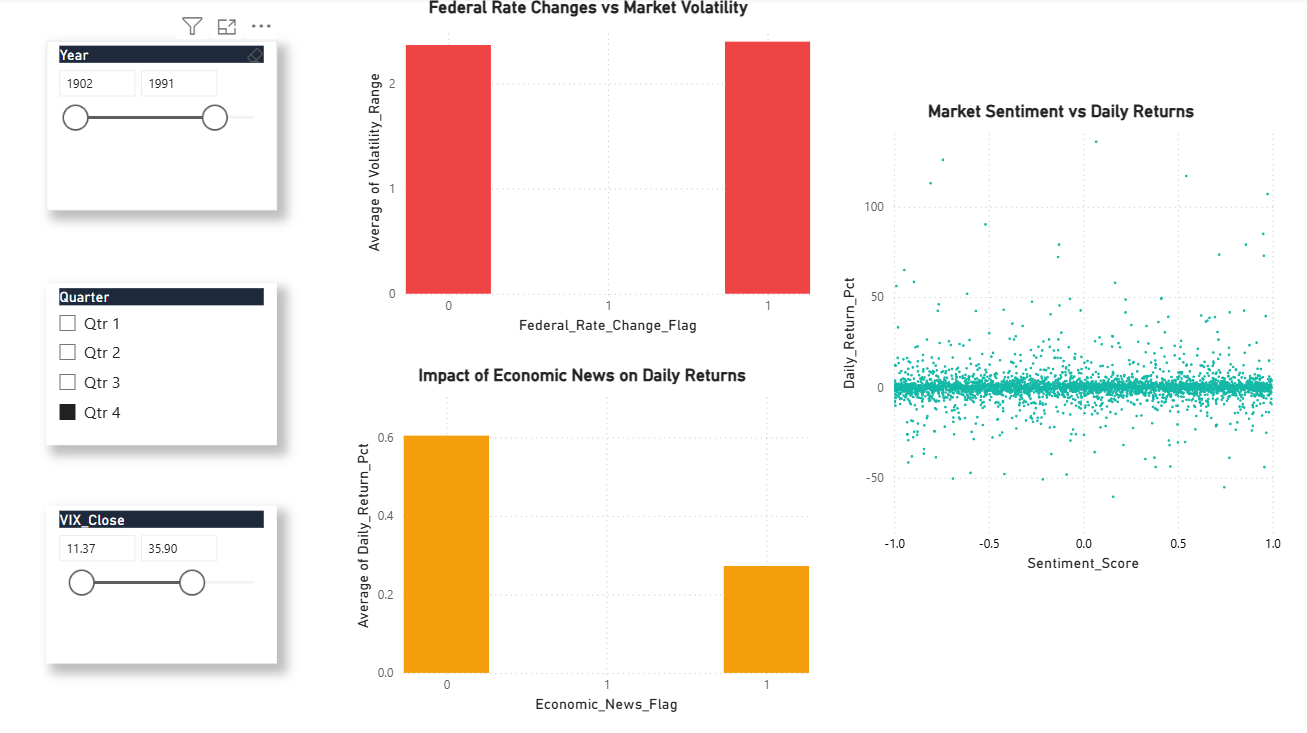

The dashboard page shown, as its layout file describes it:
{"tool":"powerbi","page":{"name":"Sentiment & News Analysis","canvas":[1280,720],"ordinal":2},"visuals":[{"type":"scatterChart","title":"Market Sentiment vs Daily Returns","fields":{"X":["Market_Trend_External.Sentiment_Score"],"Y":["Market_Trend_External.Daily_Return_Pct"]},"box":[818.6,101.4,440,465.7],"z":0},{"type":"clusteredColumnChart","title":"Impact of Economic News on Daily Returns","fields":{"Category":["Market_Trend_External.Economic_News_Flag"],"Y":["Avg(Market_Trend_External.Daily_Return_Pct)"]},"box":[342.9,360,454.3,345.7],"z":1000},{"type":"columnChart","title":"Federal Rate Changes vs Market Volatility","fields":{"Category":["Market_Trend_External.Federal_Rate_Change_Flag"],"Y":["Avg(Market_Trend_External.Volatility_Range)"]},"box":[352.9,0,444.3,334.3],"z":2000},{"type":"slicer","fields":{"Values":["Market_Trend_External.Date.Variation.Date Hierarchy.Year"]},"box":[45.7,42.9,225.7,165.7],"z":3000},{"type":"slicer","fields":{"Values":["Market_Trend_External.Date.Variation.Date Hierarchy.Quarter"]},"box":[45.7,280,225.7,158.6],"z":4000},{"type":"slicer","fields":{"Values":["Market_Trend_External.VIX_Close"]},"box":[45.7,497.1,225.7,154.3],"z":5000}]}

Visuals, with their boxes in screenshot pixels (x1, y1, x2, y2), scaled from the page's 1280x720 canvas onto the 1307x733 screenshot:
"Market Sentiment vs Daily Returns" scatterChart: (836,103,1285,577)
"Impact of Economic News on Daily Returns" clusteredColumnChart: (350,366,814,718)
"Federal Rate Changes vs Market Volatility" columnChart: (360,0,814,340)
slicer - Market_Trend_External.Date.Variation.Date Hierarchy.Year: (47,44,277,212)
slicer - Market_Trend_External.Date.Variation.Date Hierarchy.Quarter: (47,285,277,447)
slicer - Market_Trend_External.VIX_Close: (47,506,277,663)
